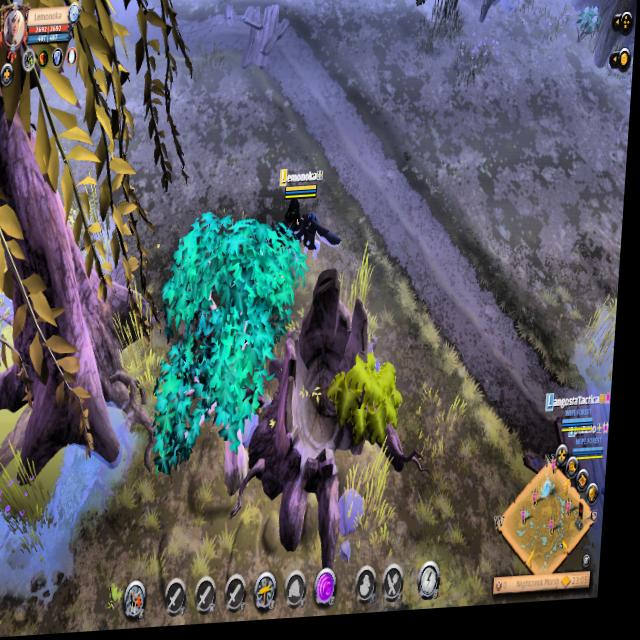wood tier 3: (157, 198, 314, 477)
